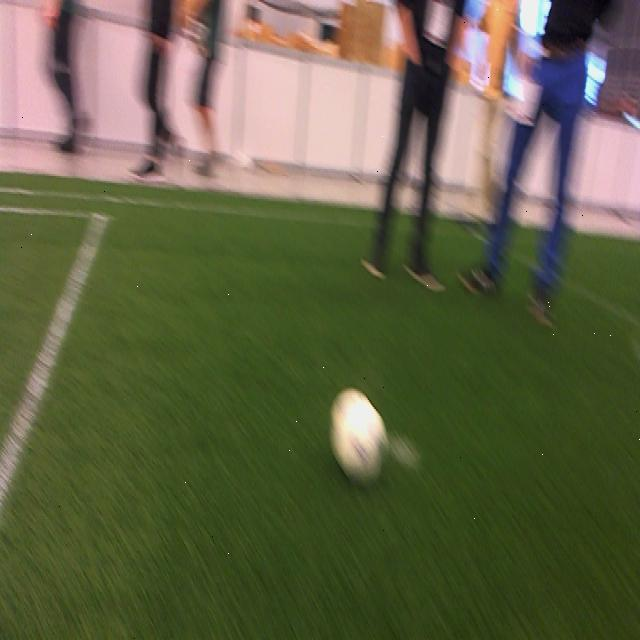ball: (332, 389, 384, 480)
